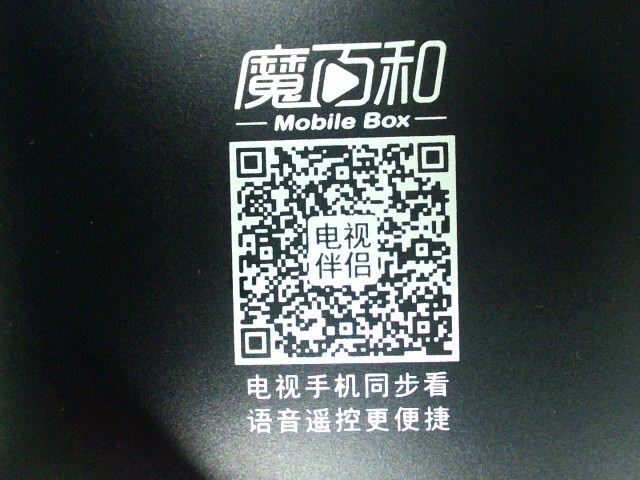AZ_MobileBox: (222, 35, 462, 437)
